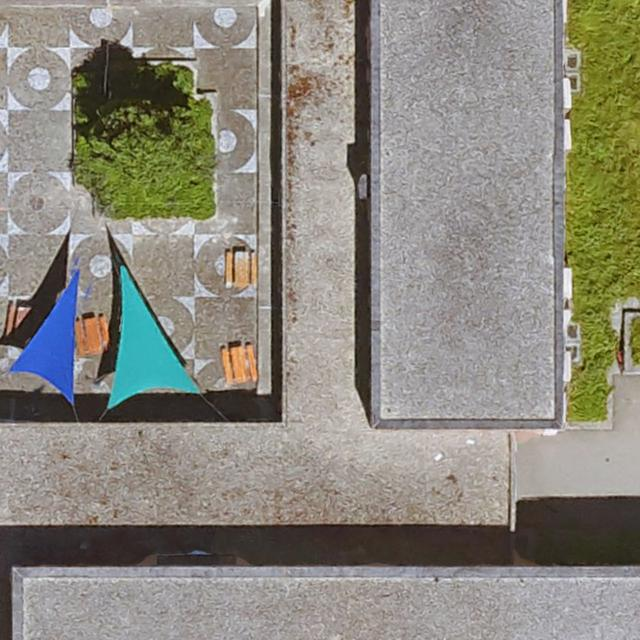tree: (80, 102, 211, 217)
